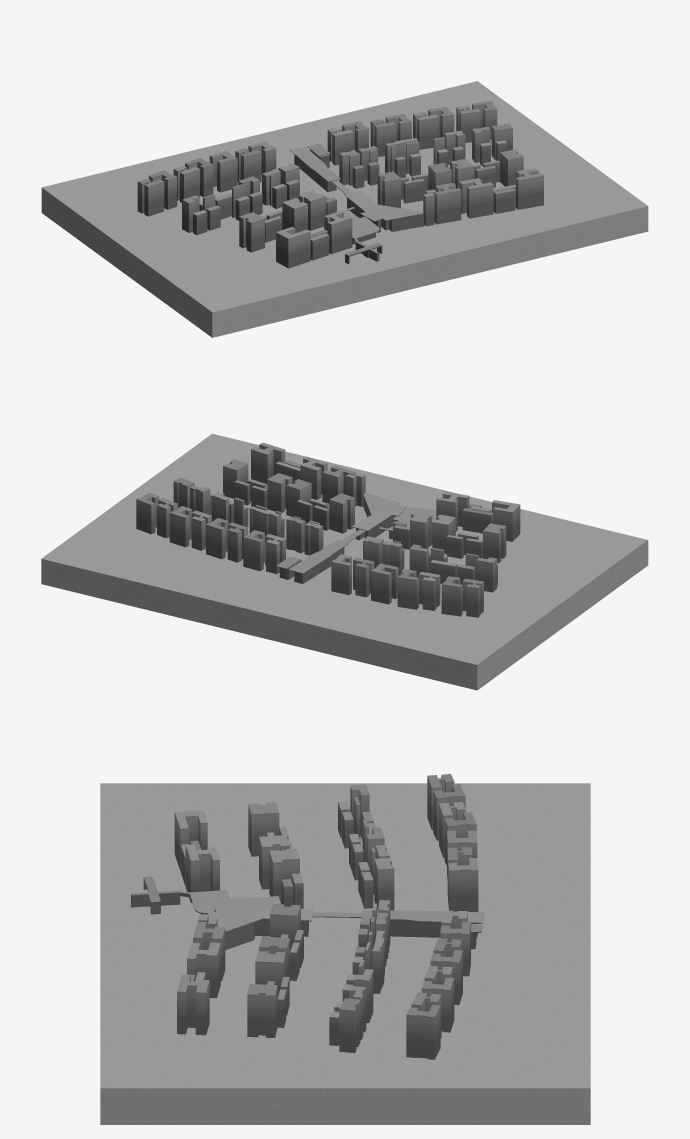
The model's file is environmental3.gltf.
3 views of the same model, one above another, from view 1: azimuth 30°, elevation 25°; view 2: azimuth 150°, elevation 25°; view 3: azimuth 270°, elevation 25° (orthographic). The views are drawn at different scales.
Visible parts, largest first — view 1: Cube, Building; view 2: Cube, Building; view 3: Cube, Building.
Boxes of the visible parts, box(x1,y1,x2,y2) form: Cube: box(41, 81, 648, 337); Building: box(137, 101, 543, 268); Cube: box(41, 433, 648, 690); Building: box(136, 442, 520, 617); Cube: box(100, 783, 590, 1124); Building: box(131, 774, 484, 1059).
Bounding box in the file's own units: 1618 × 252 × 1483.
3 materials, 3 textured.
